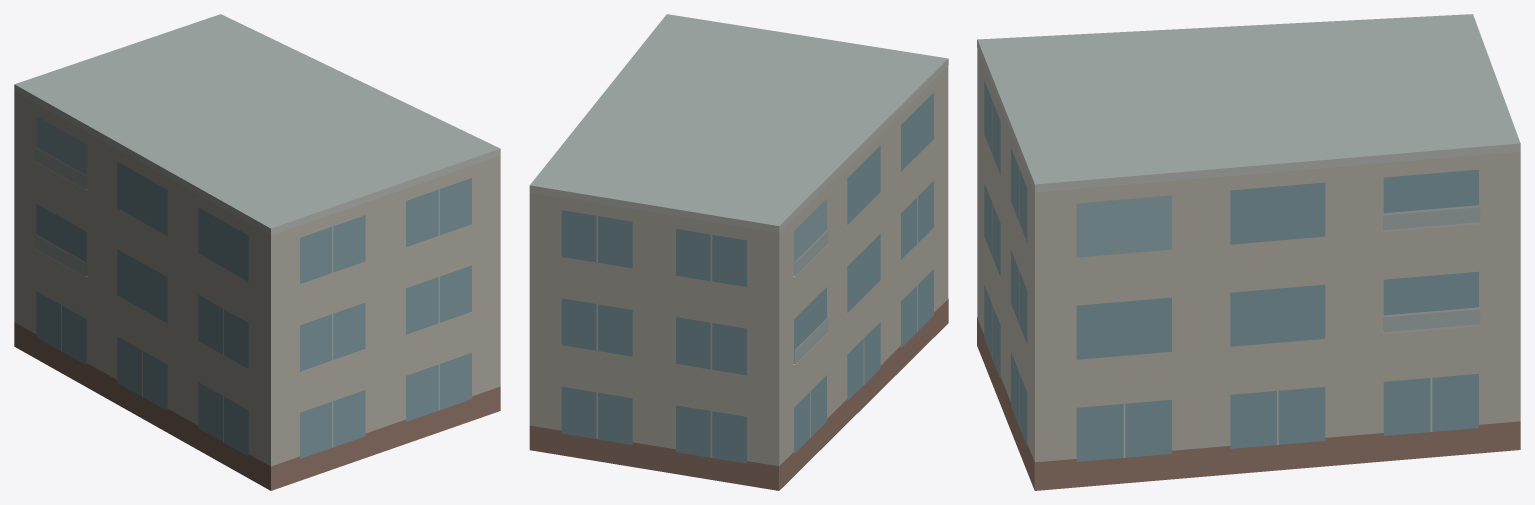
Rendered from survey-upis-32937661.glb.
3 views of the same model, side by side, from view 1: azimuth 30°, elevation 25°; view 2: azimuth 150°, elevation 25°; view 3: azimuth 270°, elevation 25° (orthographic). The views are drawn at different scales.
Parts seen in each view (by area): view 1: survey-upis-32937661.tmp; view 2: survey-upis-32937661.tmp; view 3: survey-upis-32937661.tmp.
Boxes of the visible parts, <box> form: survey-upis-32937661.tmp: <box>14,14,500,490</box>; survey-upis-32937661.tmp: <box>529,14,948,490</box>; survey-upis-32937661.tmp: <box>977,14,1520,490</box>.
Size of the model in its own units: 10.92 by 9.15 by 14.71.
